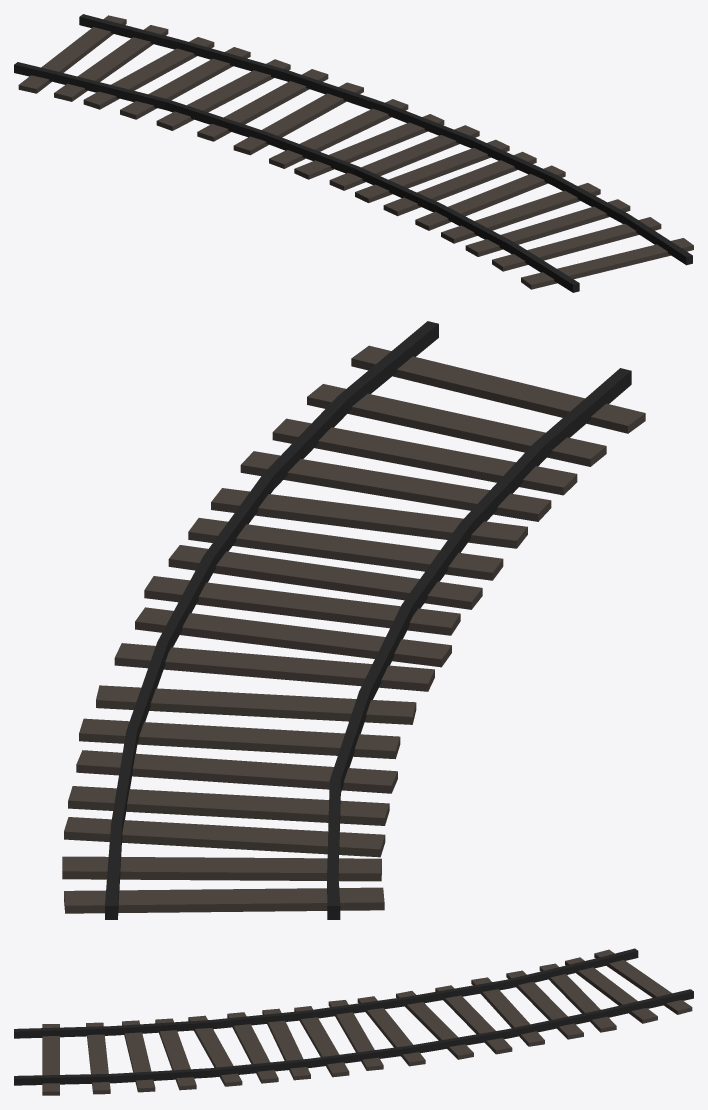
Rendered from Track_Straight_Curve.fbx.
The picture shows the model from 3 angles, top to bottom: view 1: azimuth 30°, elevation 25°; view 2: azimuth 150°, elevation 25°; view 3: azimuth 270°, elevation 25°; orthographic projection. The views are drawn at different scales.
Visible parts, largest first — view 1: Track_Curve; view 2: Track_Curve; view 3: Track_Curve.
Boxes of the visible parts, x1,y1,x2,y2 form: Track_Curve: (14,14,693,292); Track_Curve: (62,321,645,919); Track_Curve: (14,948,693,1095).
Size of the model in its own units: 3.01 by 0.0939 by 6.08.
